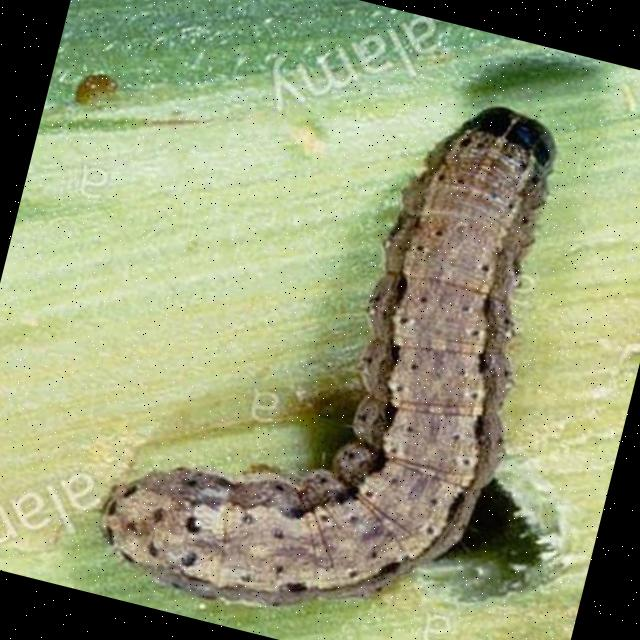worm: (87, 37, 589, 640)
